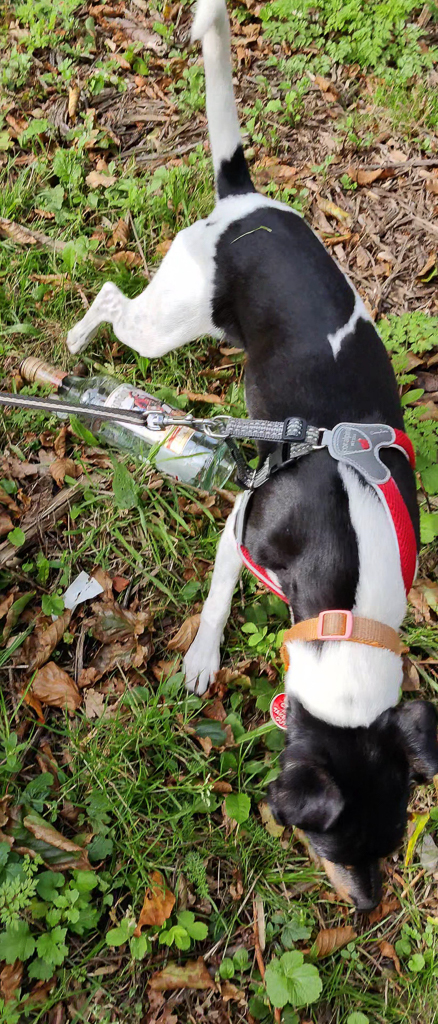Dog: (51, 0, 438, 936)
